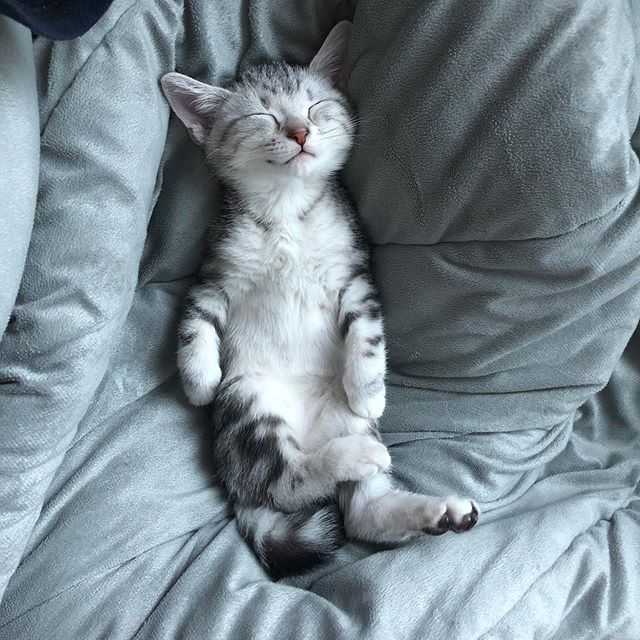cat: (156, 17, 364, 213)
